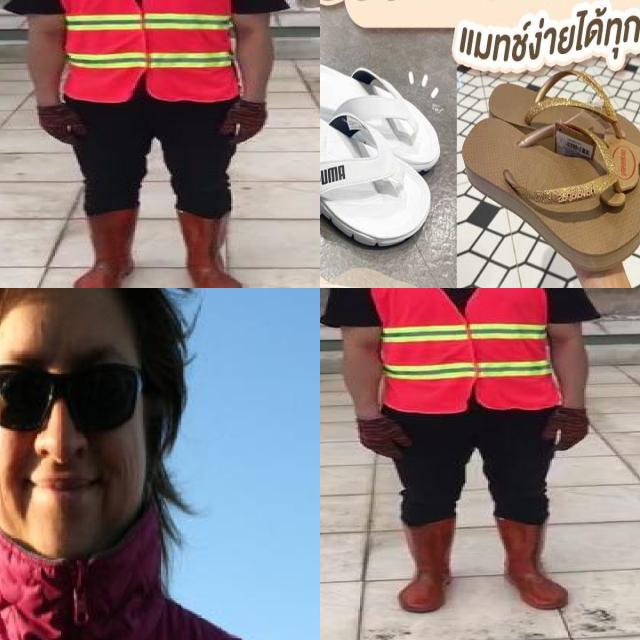Sandals: (446, 58, 640, 288), (320, 46, 445, 268)
boots: (499, 517, 566, 611), (396, 519, 456, 612), (174, 208, 243, 288), (70, 210, 140, 288)
face_nomask: (0, 361, 146, 520)
glasses: (0, 349, 150, 444)
hand_glove: (354, 415, 412, 459), (35, 104, 87, 146), (542, 406, 588, 449), (220, 102, 268, 143)
person: (0, 288, 320, 640), (329, 288, 598, 621), (8, 0, 282, 288)
vest: (367, 288, 559, 413), (55, 0, 240, 102)
